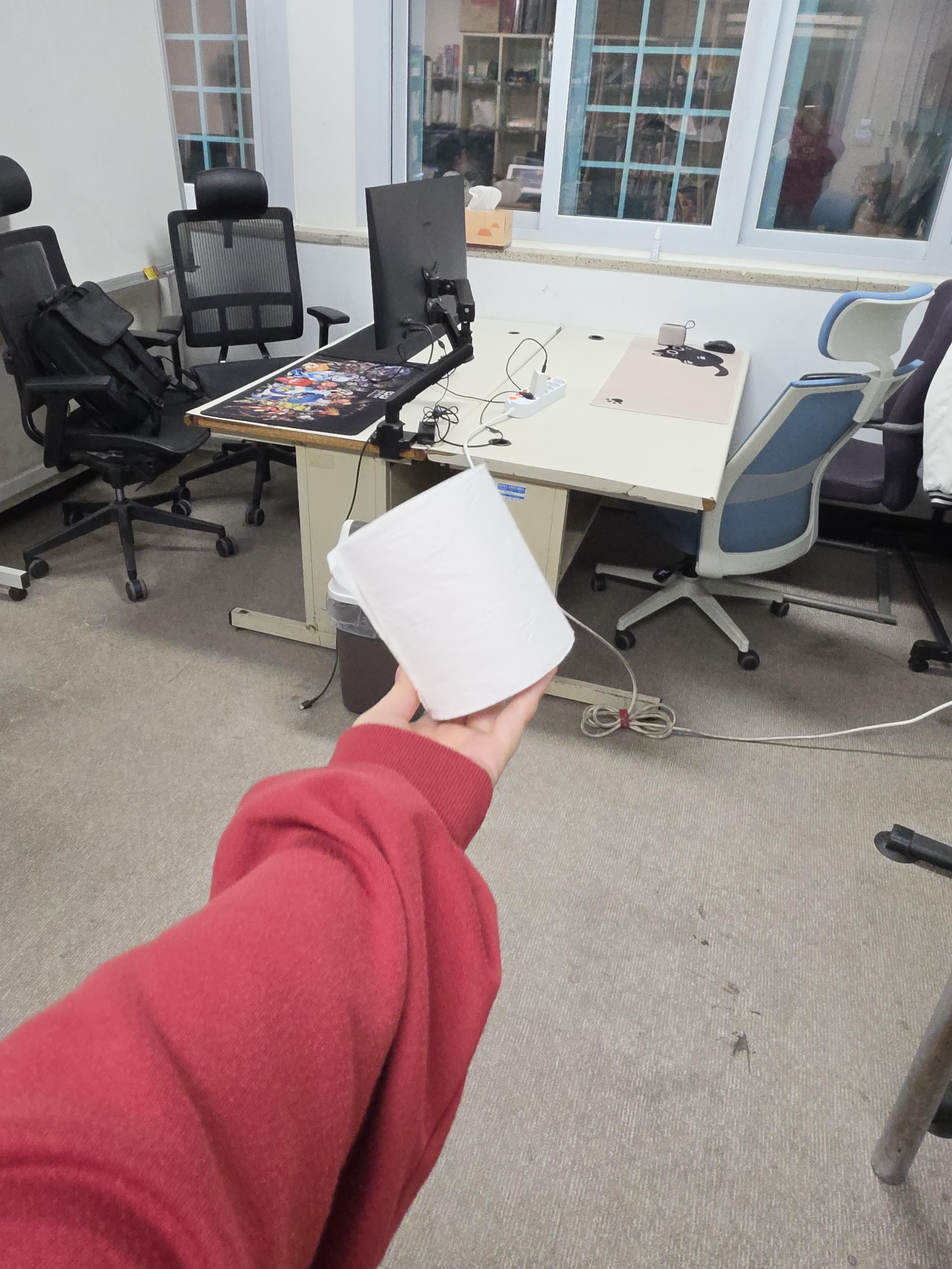tissue: (327, 464, 575, 721), (465, 185, 512, 248)
